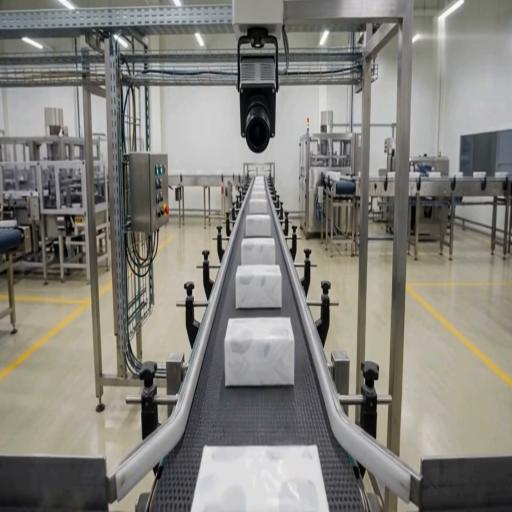good: (192, 446, 328, 511), (225, 318, 295, 387), (236, 265, 283, 310), (242, 238, 275, 265), (246, 215, 270, 237), (250, 199, 268, 214), (251, 190, 266, 200), (252, 185, 266, 193), (253, 177, 264, 187), (253, 180, 265, 189), (253, 181, 265, 188), (255, 176, 264, 182)
